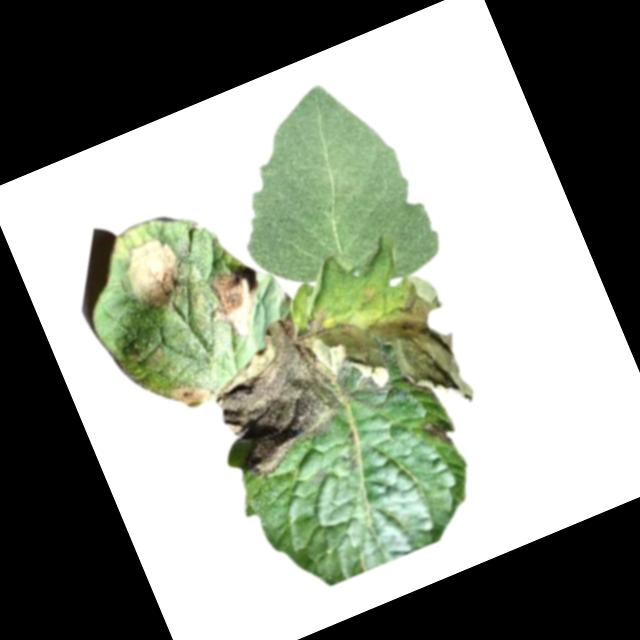Late_blight: (307, 265, 482, 448), (194, 310, 354, 483), (107, 229, 199, 324), (197, 261, 275, 346), (165, 375, 211, 414), (419, 414, 460, 456)
healthy: (198, 63, 447, 328)
